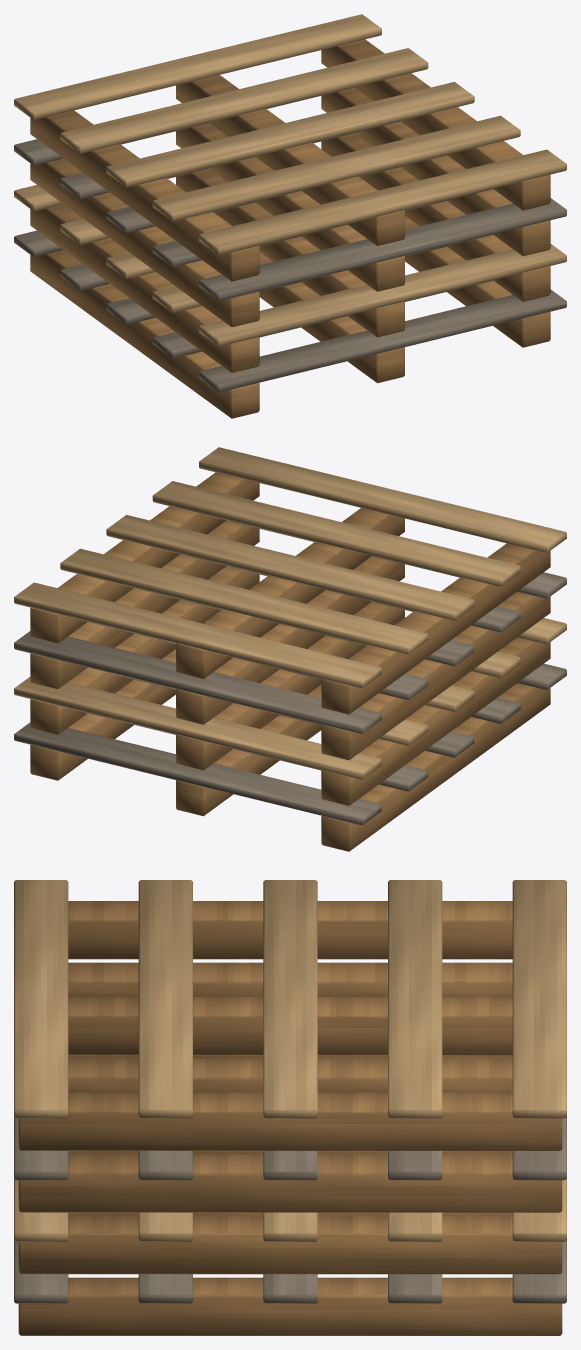
The model's file is paletes_pilha.glb.
3 renders of one model, top to bottom at view 1: azimuth 30°, elevation 25°; view 2: azimuth 150°, elevation 25°; view 3: azimuth 270°, elevation 25°, orthographic. The views are drawn at different scales.
Parts seen in each view (by area): view 1: Inteiro, Peca_03, Peca_01; view 2: Inteiro, Peca_03, Peca_01; view 3: Inteiro, Peca_03.
Part boxes in pixels (<box>): Inteiro: <box>14,14,566,418</box>; Peca_03: <box>14,28,566,277</box>; Peca_01: <box>14,133,564,360</box>; Inteiro: <box>14,447,566,851</box>; Peca_03: <box>14,463,566,711</box>; Peca_01: <box>18,566,566,801</box>; Inteiro: <box>14,880,566,1335</box>; Peca_03: <box>14,918,566,1150</box>.
Size of the model in its own units: 1.2 by 0.5775 by 1.22.
1 material, 1 textured.
